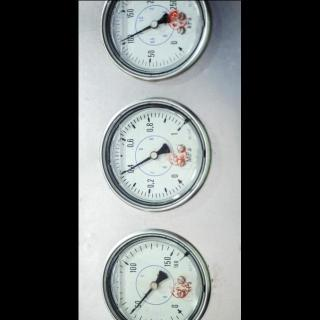gauge: (100, 97, 223, 215), (102, 228, 226, 320), (94, 0, 216, 84), (171, 170, 189, 190), (172, 249, 190, 267), (171, 122, 189, 138), (171, 302, 188, 318), (176, 42, 191, 58), (149, 19, 159, 29), (149, 150, 159, 160), (150, 282, 158, 290), (128, 309, 136, 317), (118, 170, 126, 177), (118, 37, 126, 43)
